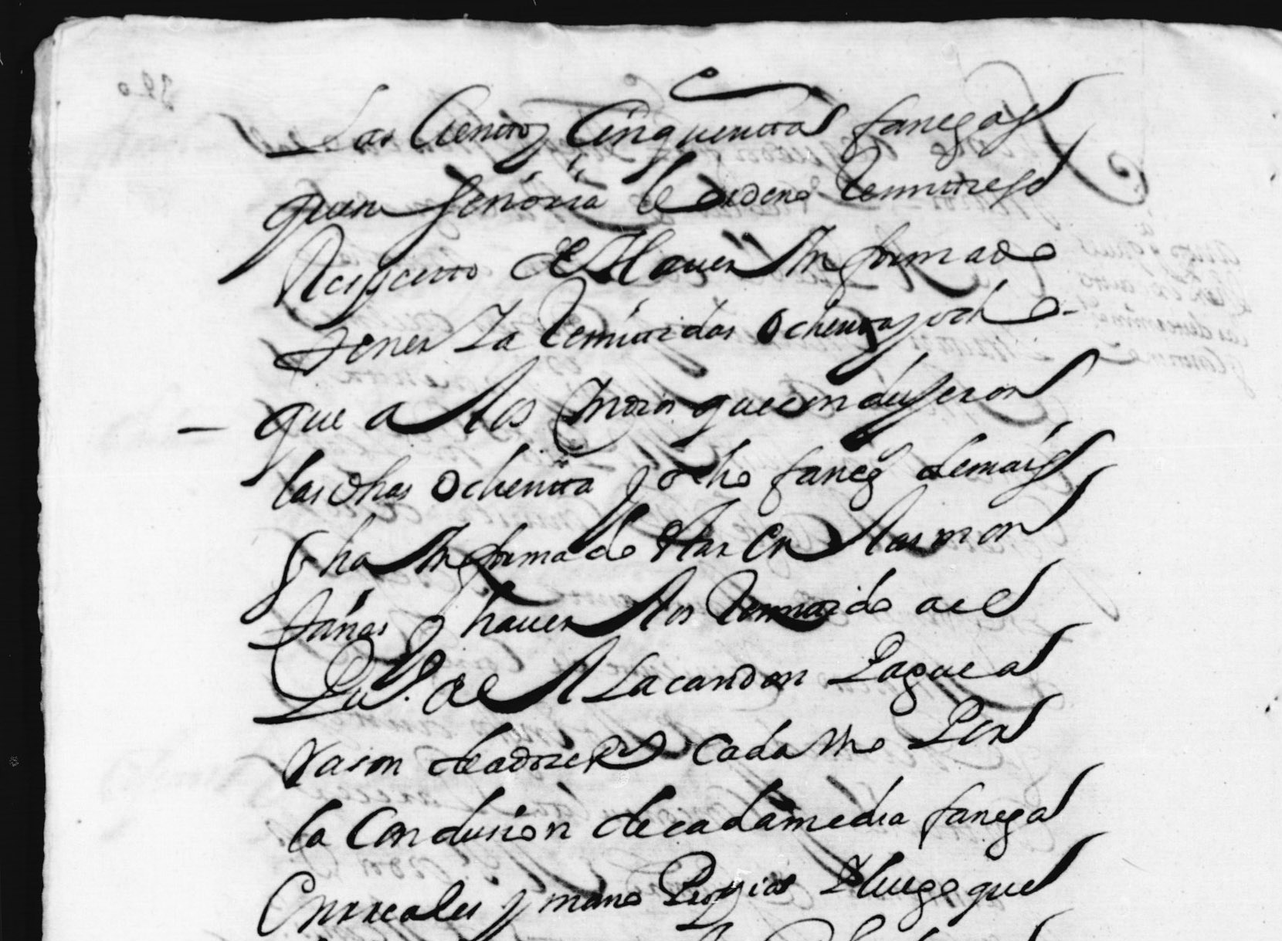lacandon: (582, 652, 808, 702)
